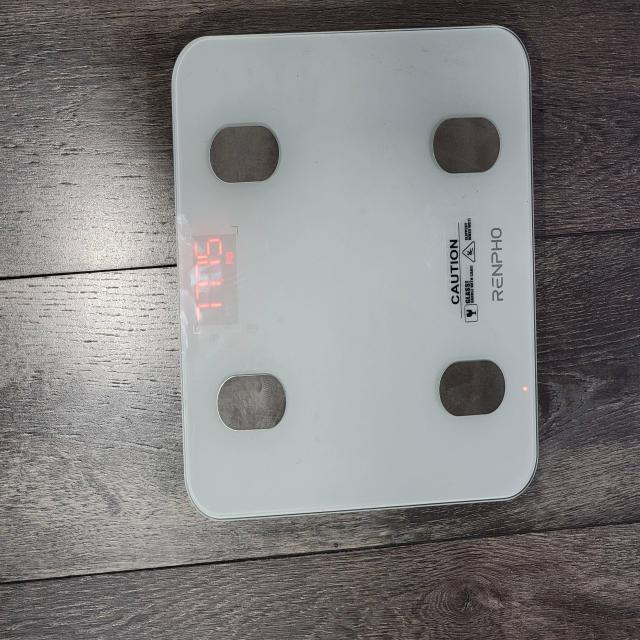ws: (169, 27, 539, 521)
